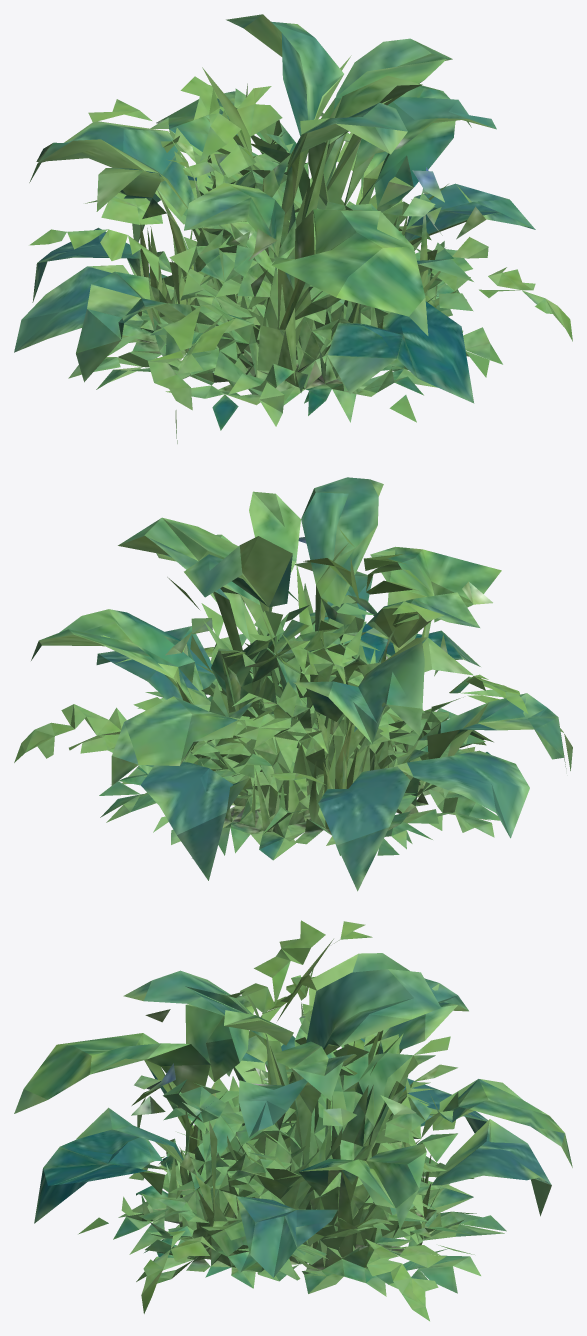
File: forest_fern.glb
The picture shows the model from 3 angles, top to bottom: view 1: azimuth 30°, elevation 25°; view 2: azimuth 150°, elevation 25°; view 3: azimuth 270°, elevation 25°; orthographic projection. The views are drawn at different scales.
Parts seen in each view (by area): view 1: output_unwrapped; view 2: output_unwrapped; view 3: output_unwrapped.
Part boxes in pixels (left/top/right/bottom): output_unwrapped: left=14, top=14, right=572, bottom=443; output_unwrapped: left=14, top=477, right=572, bottom=891; output_unwrapped: left=14, top=920, right=572, bottom=1321.
Size of the model in its own units: 1.77 by 1 by 1.85.
Materials: 1 (1 with a texture image).
